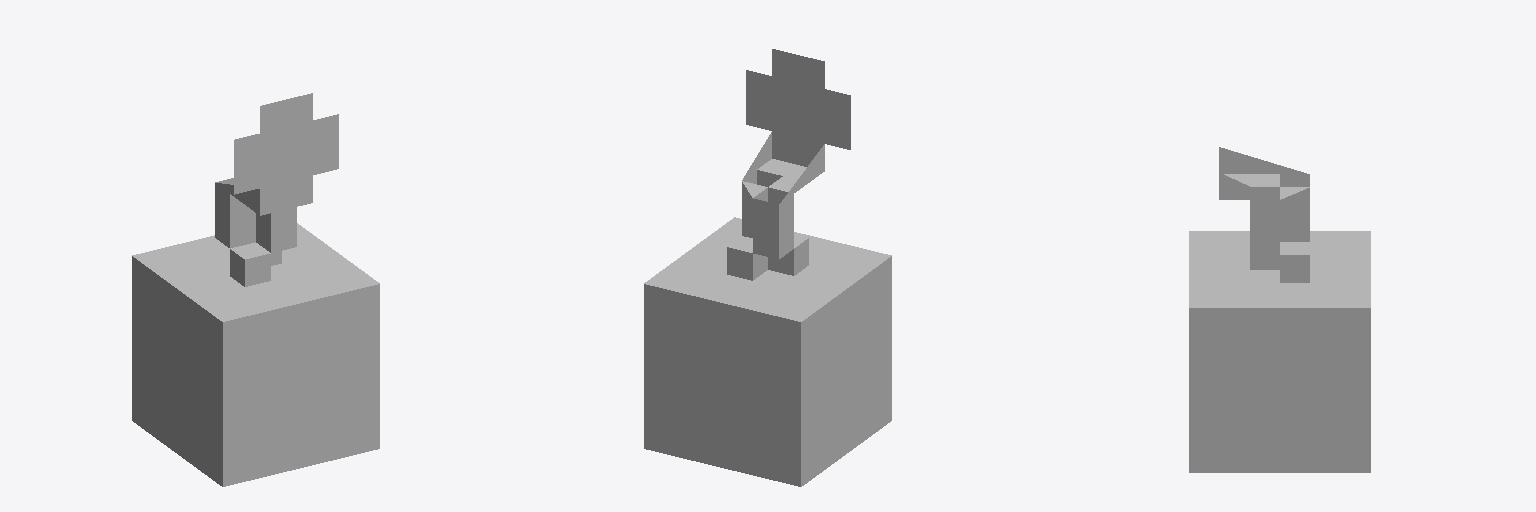
Rendered from lamparita.obj.
3 views of the same model, side by side, from view 1: azimuth 30°, elevation 25°; view 2: azimuth 150°, elevation 25°; view 3: azimuth 270°, elevation 25° (orthographic).
Parts seen in each view (by area): view 1: lampa.001; view 2: lampa.001; view 3: lampa.001.
Part boxes in pixels (left/top/right/bottom): lampa.001: left=132, top=93, right=379, bottom=486; lampa.001: left=644, top=49, right=891, bottom=486; lampa.001: left=1189, top=147, right=1370, bottom=472.
Size of the model in its own units: 0.6 by 1.3 by 0.6.